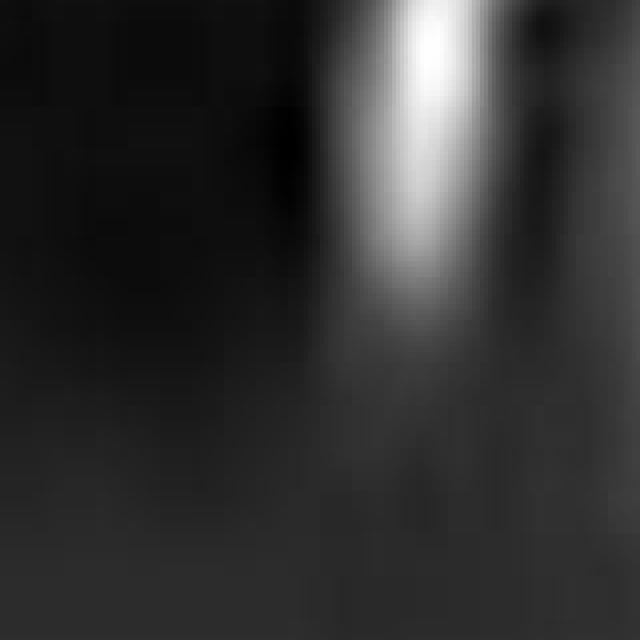person: (353, 1, 533, 390)
